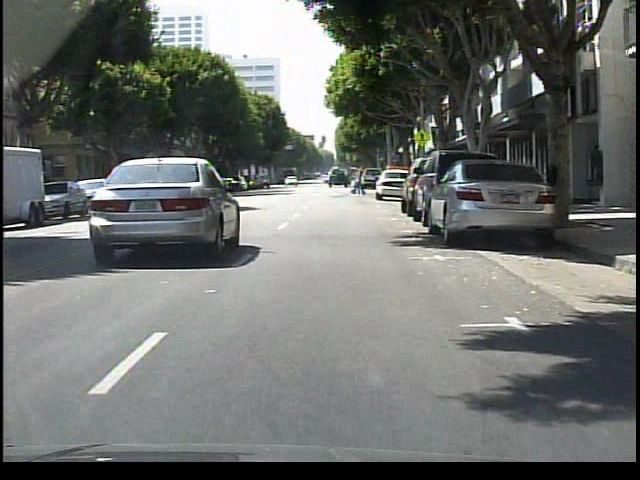person: (351, 166, 366, 195)
